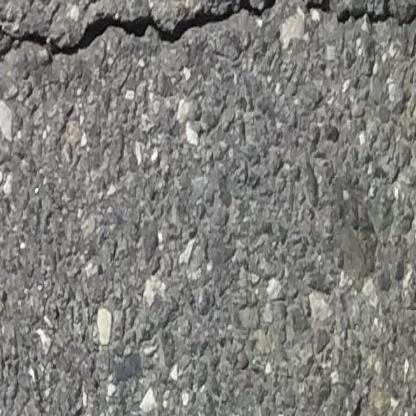Cracks: (0, 0, 416, 78)
